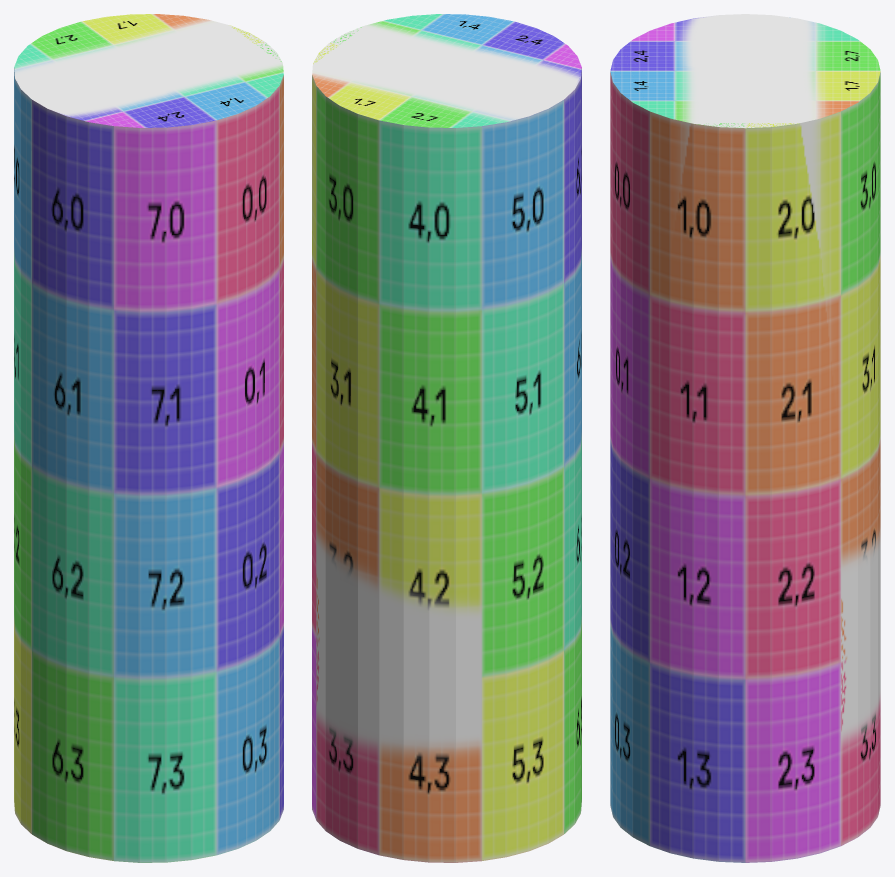
Rendered from Bou.obj.
The picture shows the model from 3 angles, left to right: view 1: azimuth 30°, elevation 25°; view 2: azimuth 150°, elevation 25°; view 3: azimuth 270°, elevation 25°; orthographic projection.
Parts seen in each view (by area): view 1: 円柱; view 2: 円柱; view 3: 円柱.
Boxes of the visible parts, x1,y1,x2,y2 form: 円柱: (14,14,283,862); 円柱: (312,14,581,862); 円柱: (610,14,880,862).
Bounding box in the file's own units: 2 × 6 × 2.
